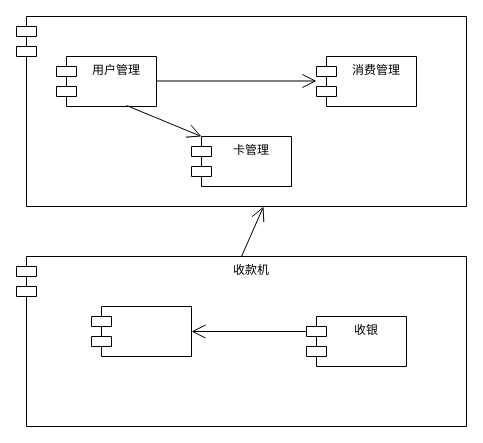
This 483x443 diagram has some shape labels left out. The box of each missing label's shape, as (x1, y1, x2, y2) in pixels:
管理中心: (16, 16, 466, 206)
读卡器: (90, 306, 192, 356)
